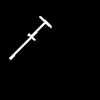double_crochet: (9, 16, 50, 59)
